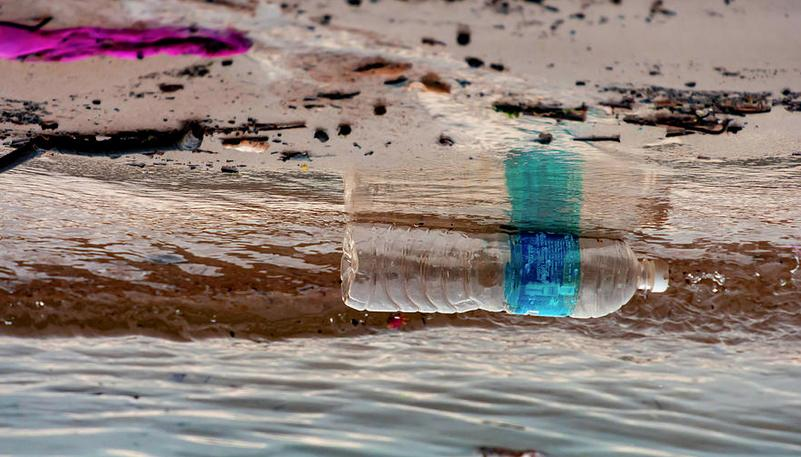Plastic: (329, 208, 685, 325)
